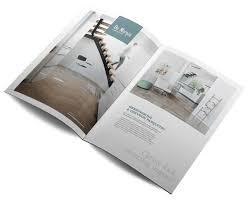paper: (5, 11, 244, 195)
